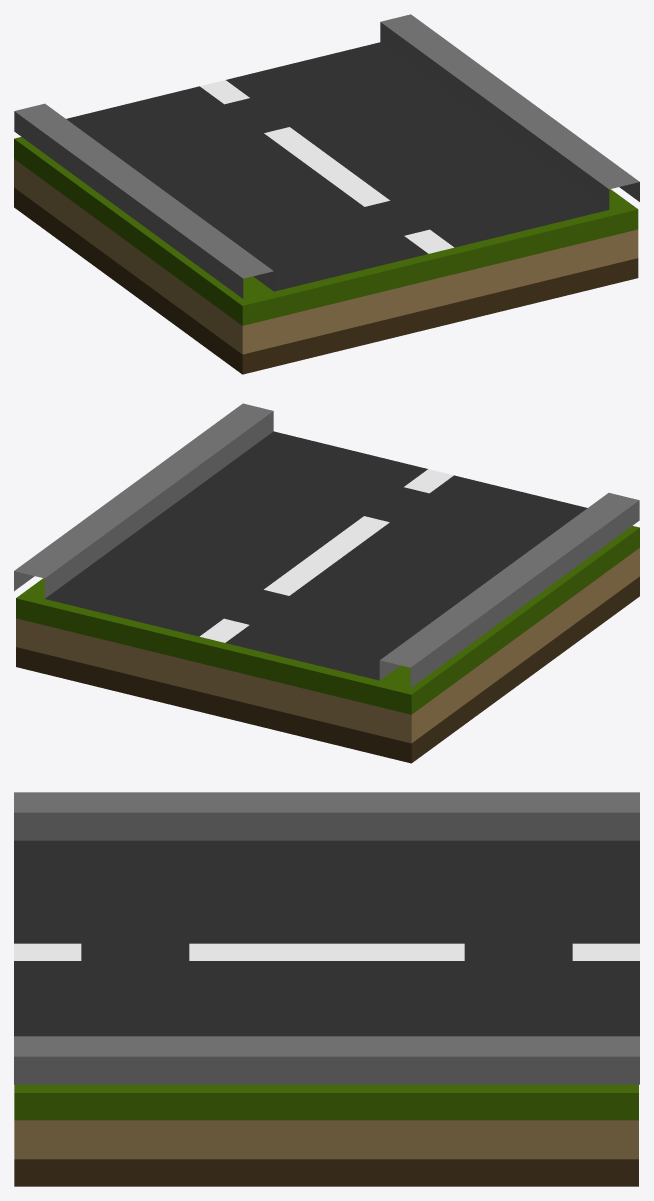
Rendered from road.fbx.
3 views of the same model, one above another, from view 1: azimuth 30°, elevation 25°; view 2: azimuth 150°, elevation 25°; view 3: azimuth 270°, elevation 25° (orthographic). The views are drawn at different scales.
Visible parts, largest first — view 1: Plane, road ground; view 2: Plane, road ground; view 3: Plane, road ground.
Boxes of the visible parts, bbox=[...] form: Plane: bbox=[14, 14, 639, 298]; road ground: bbox=[14, 137, 638, 374]; Plane: bbox=[14, 403, 639, 687]; road ground: bbox=[16, 526, 639, 763]; Plane: bbox=[14, 792, 639, 1084]; road ground: bbox=[14, 1084, 638, 1186].
Size of the model in its own units: 200 by 46.2 by 200.
